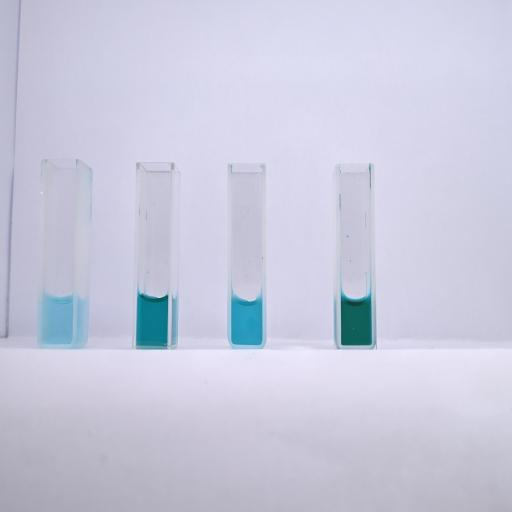cuvette: (35, 158, 82, 349), (131, 158, 176, 351), (334, 160, 379, 350), (226, 162, 270, 348)
liquid: (41, 293, 73, 343), (137, 294, 168, 344), (341, 295, 372, 345), (232, 298, 262, 345)
